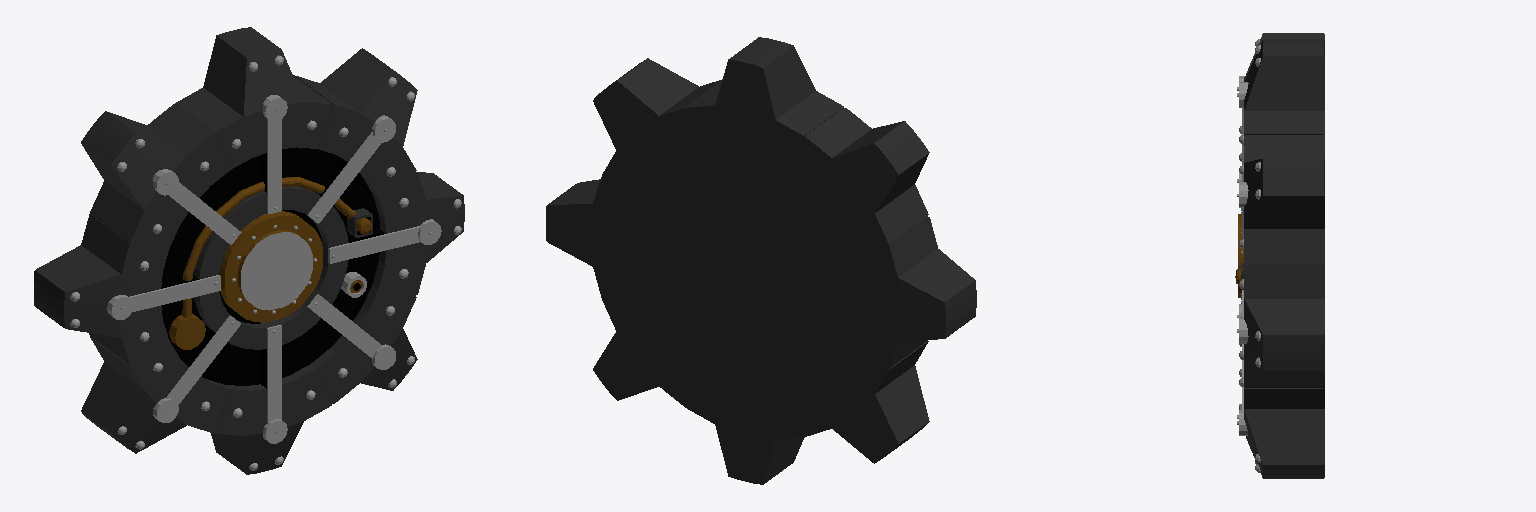
File: vaultDoor.obj
3 views of the same model, side by side, from view 1: azimuth 30°, elevation 25°; view 2: azimuth 150°, elevation 25°; view 3: azimuth 270°, elevation 25° (orthographic).
Parts seen in each view (by area): view 1: Door_Mesh; view 2: Door_Mesh; view 3: Door_Mesh.
Part boxes in pixels (bbox=[...]): Door_Mesh: bbox=[34, 27, 464, 474]; Door_Mesh: bbox=[546, 37, 976, 484]; Door_Mesh: bbox=[1235, 33, 1324, 478].
Size of the model in its own units: 48.46 by 48.46 by 9.42.